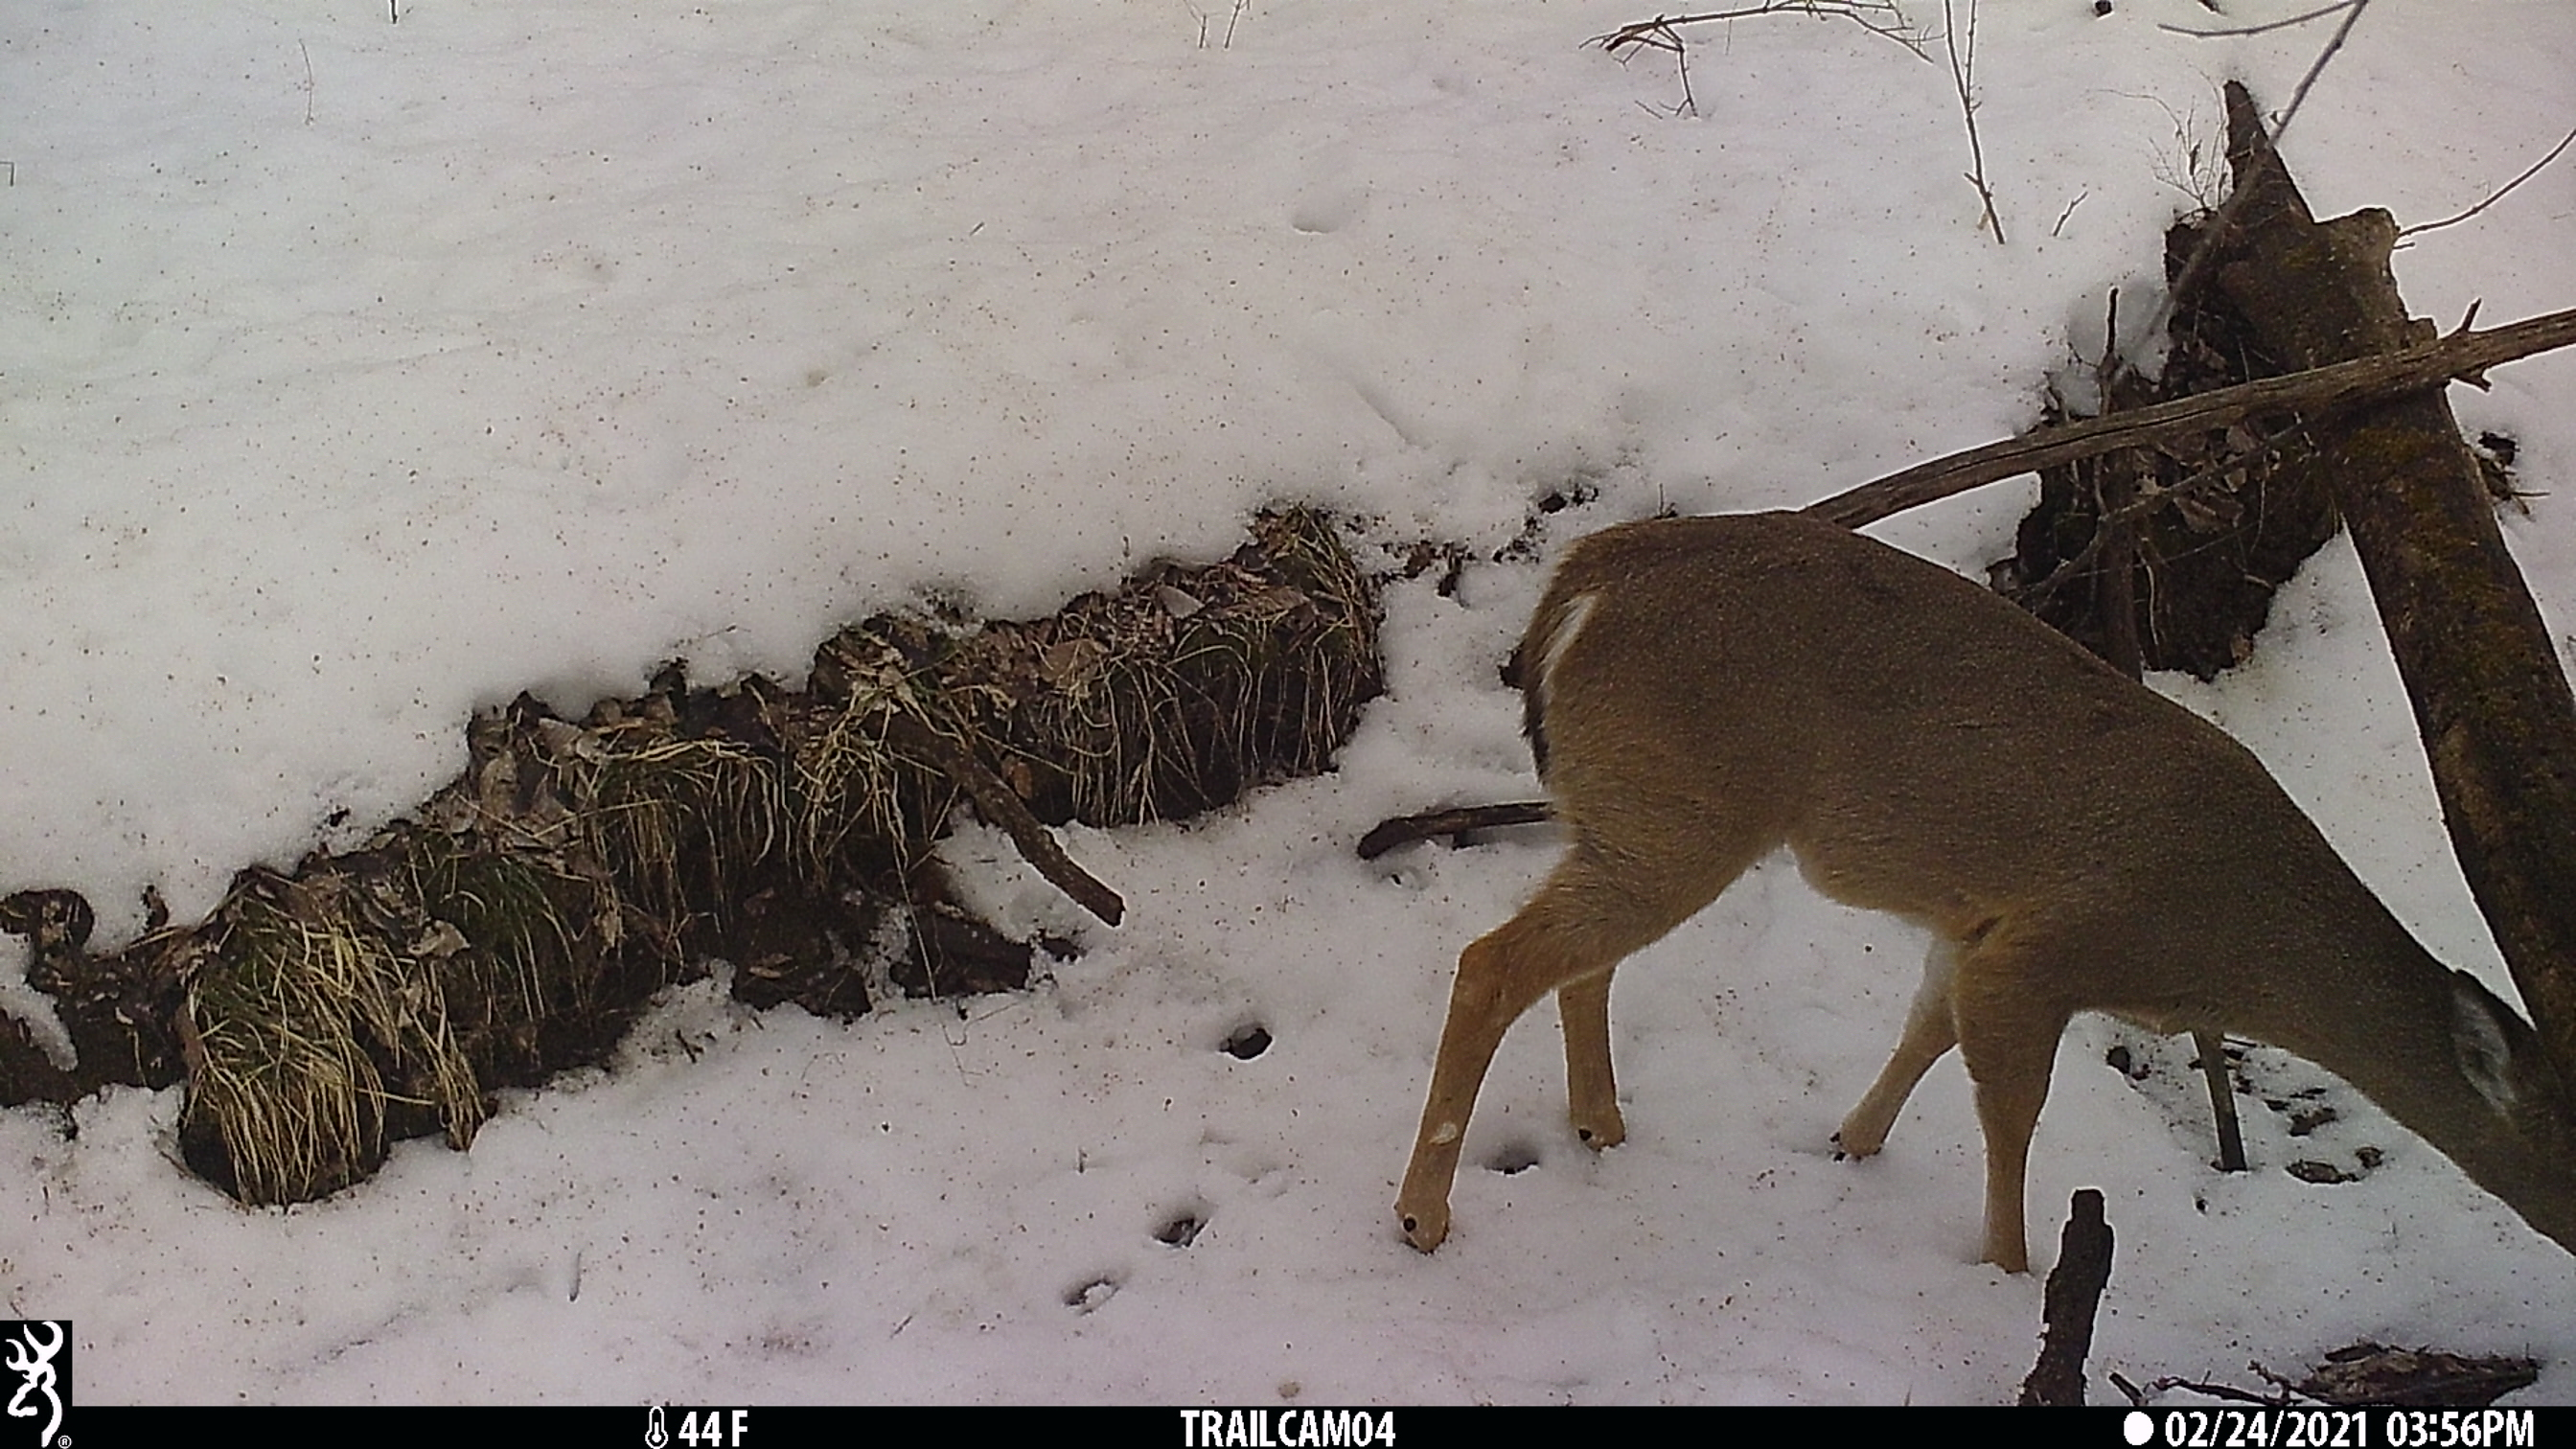Deer: (1394, 508, 2576, 1270)
